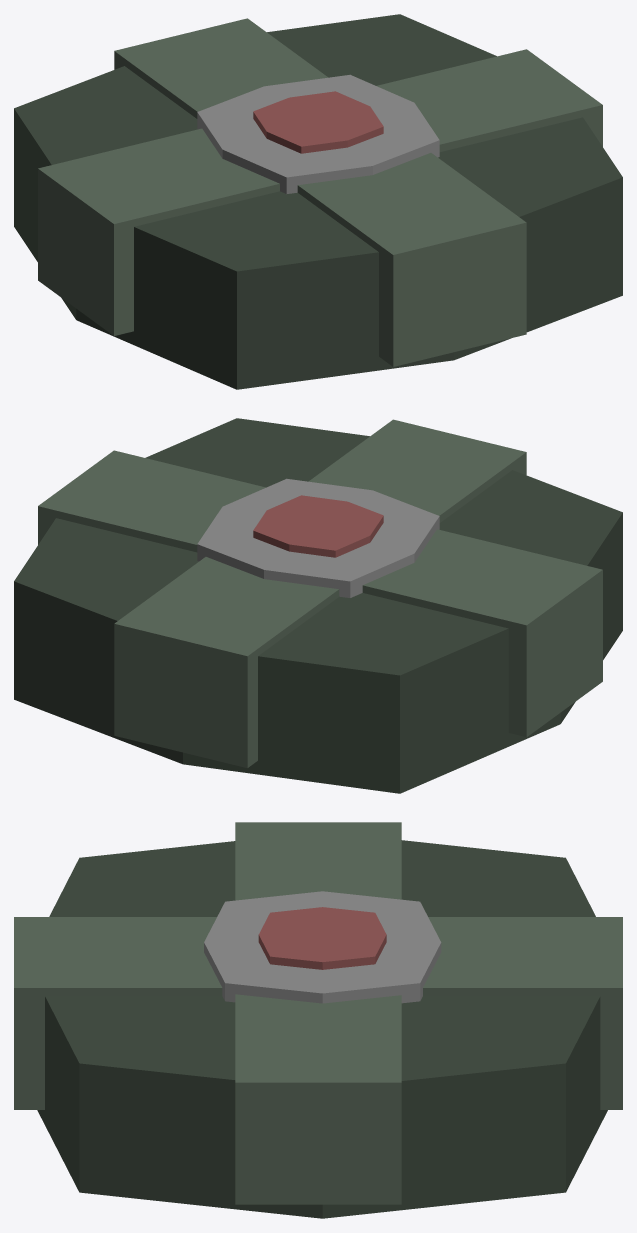
Rendered from Mine.fbx.
The picture shows the model from 3 angles, top to bottom: view 1: azimuth 30°, elevation 25°; view 2: azimuth 150°, elevation 25°; view 3: azimuth 270°, elevation 25°; orthographic projection. The views are drawn at different scales.
Visible parts, largest first — view 1: Mine; view 2: Mine; view 3: Mine.
Part boxes in pixels (<box>): Mine: <box>14,14,622,389</box>; Mine: <box>14,418,622,793</box>; Mine: <box>14,822,622,1218</box>.
Bounding box in the file's own units: 27.6 × 7.67 × 27.29.
